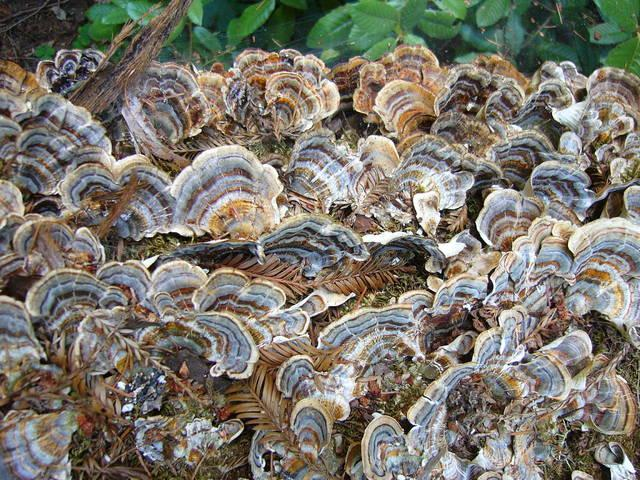poisonous_mushroom: (1, 41, 637, 478), (168, 143, 285, 241)
